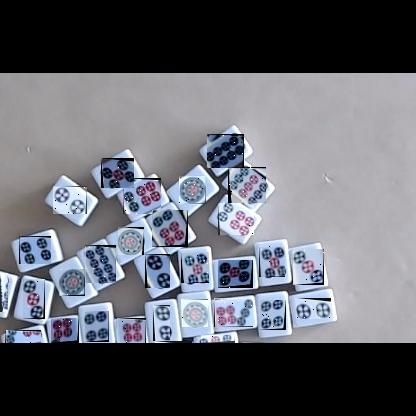1p: (181, 299, 208, 327), (179, 176, 206, 204), (118, 227, 144, 255), (59, 269, 85, 296)
2p: (53, 186, 87, 214), (145, 254, 170, 288), (295, 298, 331, 319), (153, 305, 170, 341)
3p: (293, 249, 324, 285), (23, 279, 45, 319)
4p: (19, 236, 51, 264), (260, 300, 286, 330), (84, 311, 109, 342)
5p: (101, 158, 134, 188), (218, 260, 253, 288), (181, 252, 209, 283), (259, 246, 285, 277)
6p: (123, 178, 161, 214), (152, 210, 188, 247), (218, 203, 254, 235)
7p: (214, 298, 253, 327), (116, 318, 146, 343), (51, 318, 79, 343), (5, 330, 41, 343)
8p: (207, 134, 244, 168), (85, 245, 116, 283), (0, 273, 8, 312)
9p: (228, 167, 266, 203), (201, 335, 235, 343), (155, 341, 192, 343)
